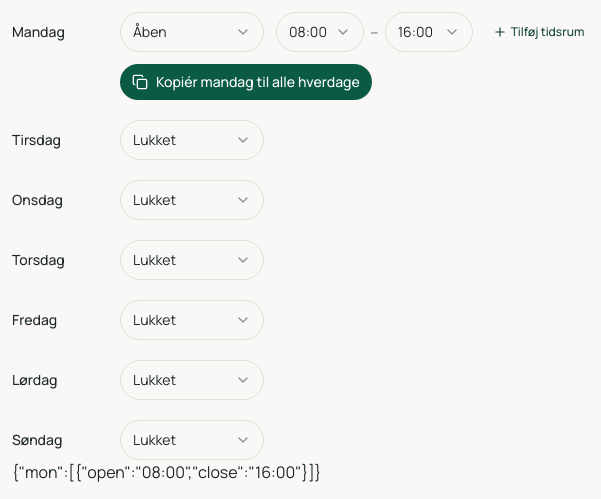
OpeningHoursEditor — 24-hour clock › never offers AM or PM
Click the dropdown named "Mandag åbner" at point(320, 32), box [276,12,364,52]
(page scrolled)
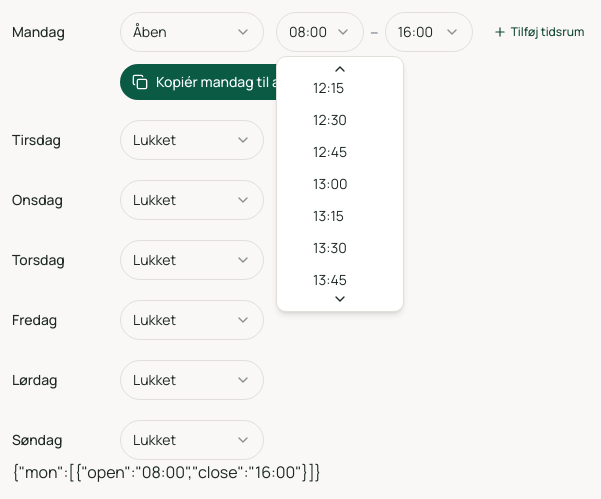
Expected: the text "13:00" is shown, [313,174,348,194]
